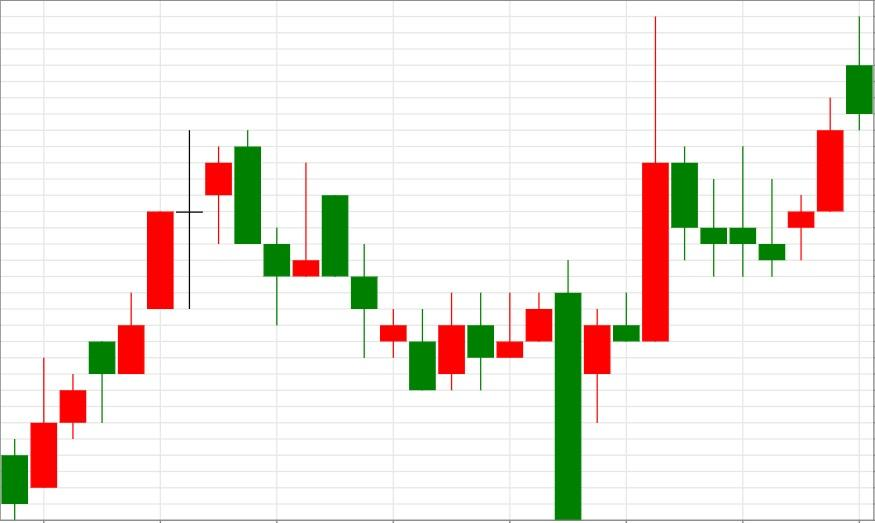bearish_engulfing_fall: (0, 129, 261, 520)
